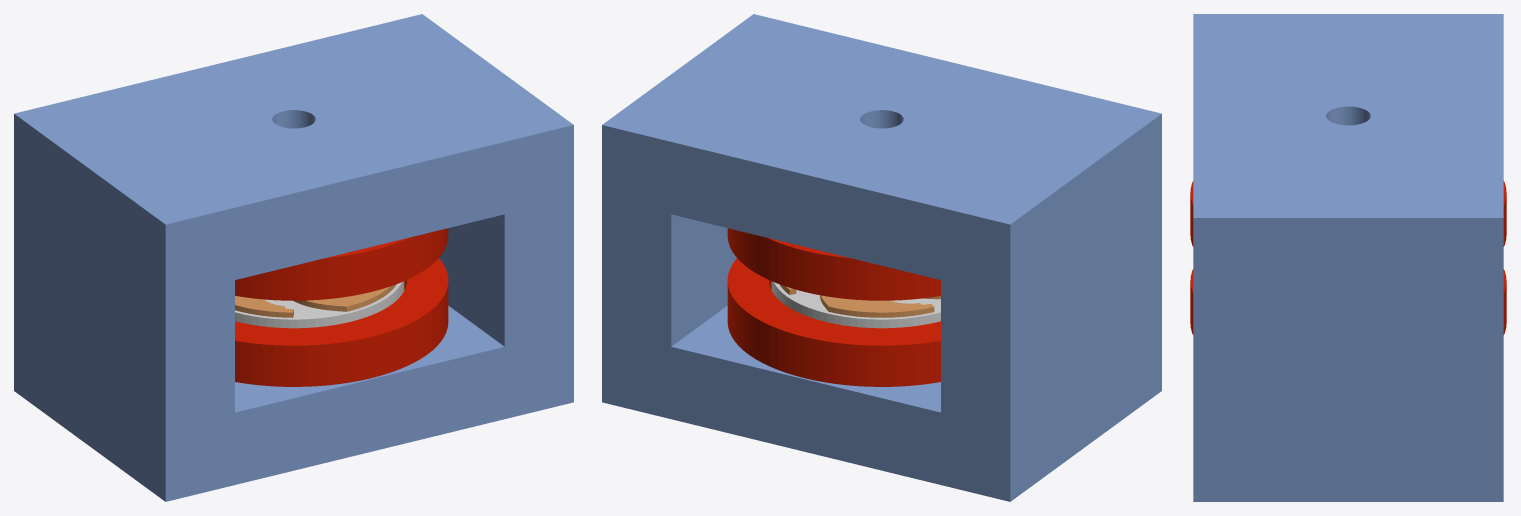
File: testBench.glb
3 renders of one model, left to right at view 1: azimuth 30°, elevation 25°; view 2: azimuth 150°, elevation 25°; view 3: azimuth 270°, elevation 25°, orthographic. The views are drawn at different scales.
Parts seen in each view (by area): view 1: Aimant, Bobines, Cylindre, Interieur; view 2: Aimant, Bobines, Cylindre, Interieur; view 3: Aimant, Bobines.
Part boxes in pixels (<box>): Aimant: <box>14,14,573,501</box>; Bobines: <box>235,228,448,386</box>; Cylindre: <box>235,281,404,328</box>; Interieur: <box>235,284,396,317</box>; Aimant: <box>602,14,1161,501</box>; Bobines: <box>727,228,940,386</box>; Cylindre: <box>771,281,940,328</box>; Interieur: <box>779,284,940,317</box>; Aimant: <box>1193,14,1503,501</box>; Bobines: <box>1190,181,1506,334</box>.
Bounding box in the file's own units: 427 × 278 × 280.
